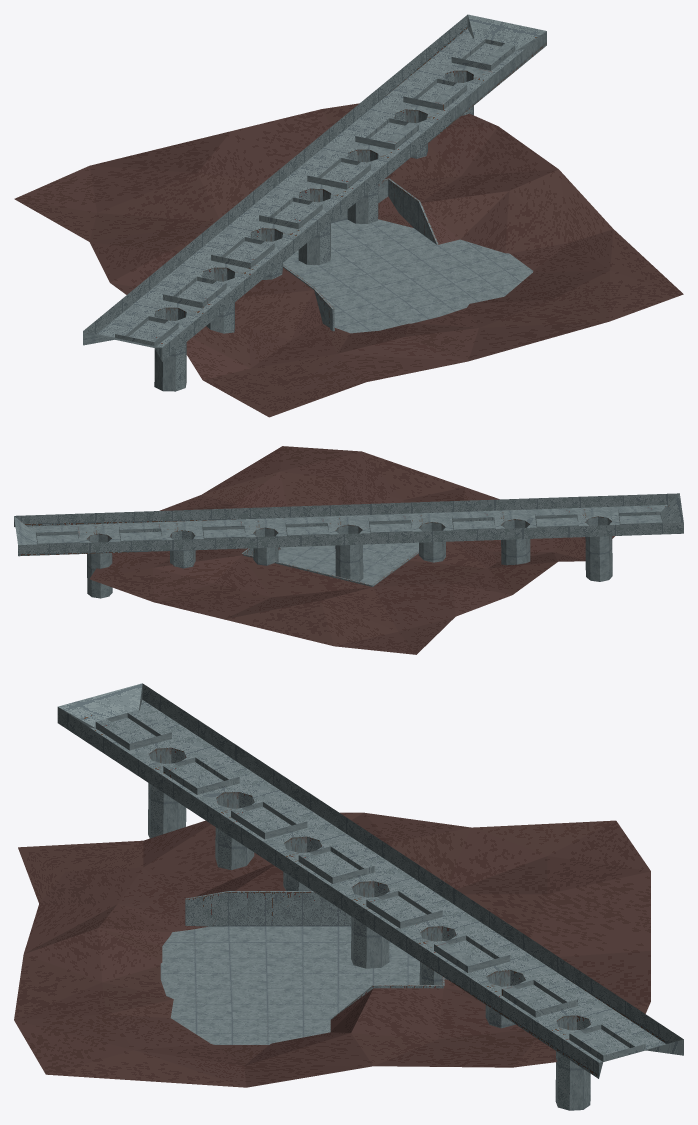
Rendered from arena1_backgrounds.glb.
3 views of the same model, one above another, from view 1: azimuth 30°, elevation 25°; view 2: azimuth 150°, elevation 25°; view 3: azimuth 270°, elevation 25° (orthographic). The views are drawn at different scales.
Parts seen in each view (by area): view 1: dirt_floor, Cube, concrete_walls; view 2: dirt_floor, Cube, concrete_walls; view 3: dirt_floor, Cube, concrete_walls.
Boxes of the visible parts, x1=… form: dirt_floor: x1=14, y1=103, x2=683, y2=417; Cube: x1=83, y1=14, x2=546, y2=391; concrete_walls: x1=283, y1=178, x2=533, y2=333; dirt_floor: x1=89, y1=446, x2=614, y2=654; Cube: x1=14, y1=493, x2=683, y2=598; concrete_walls: x1=242, y1=542, x2=418, y2=586; dirt_floor: x1=14, y1=812, x2=650, y2=1087; Cube: x1=57, y1=683, x2=683, y2=1110; concrete_walls: x1=160, y1=891, x2=444, y2=1044.
Size of the model in its own units: 96.94 by 12.78 by 73.96.
Materials: 2 (2 with a texture image).
